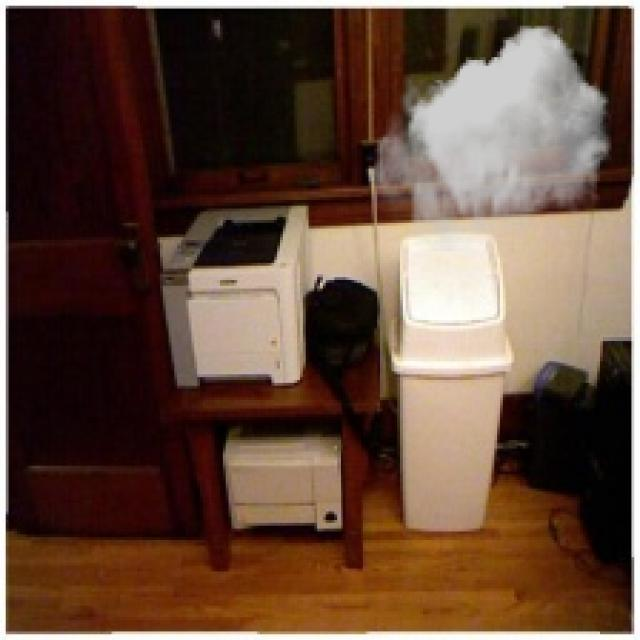Smoke: (374, 25, 612, 252)
